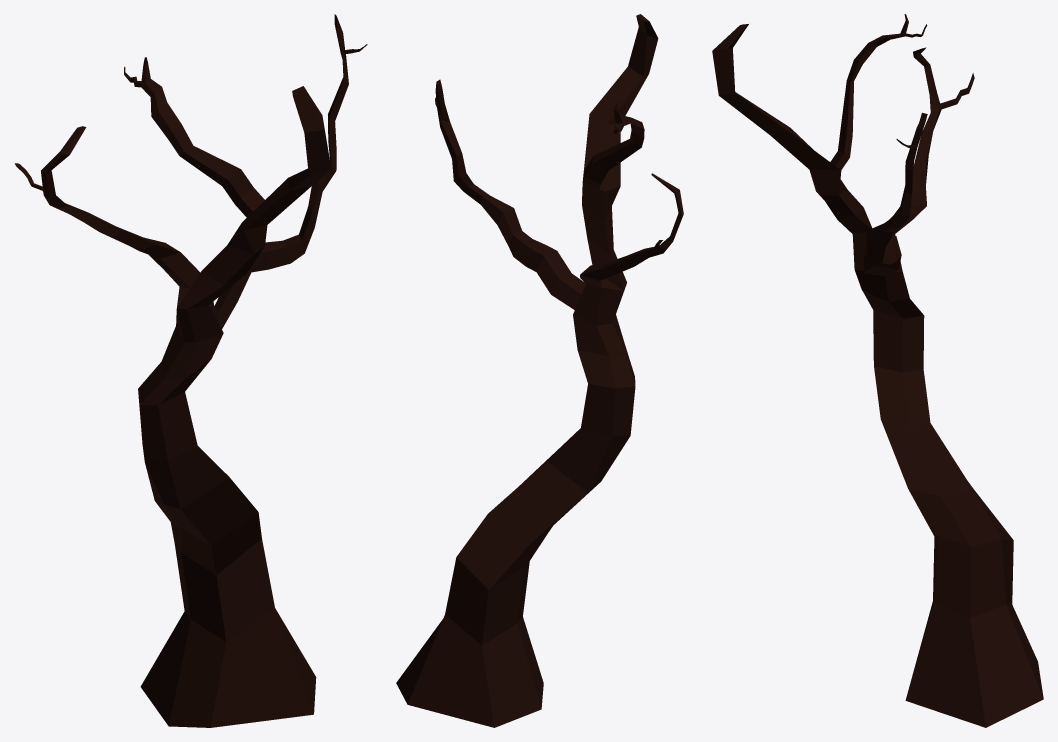
The model's file is tree.obj.
The picture shows the model from 3 angles, left to right: view 1: azimuth 30°, elevation 25°; view 2: azimuth 150°, elevation 25°; view 3: azimuth 270°, elevation 25°; orthographic projection. The views are drawn at different scales.
Visible parts, largest first — view 1: Cube; view 2: Cube; view 3: Cube.
Part boxes in pixels (left/top/right/bottom): Cube: left=14, top=14, right=367, bottom=727; Cube: left=396, top=14, right=683, bottom=727; Cube: left=712, top=14, right=1043, bottom=727.
Size of the model in its own units: 7.98 by 17.92 by 8.41.
